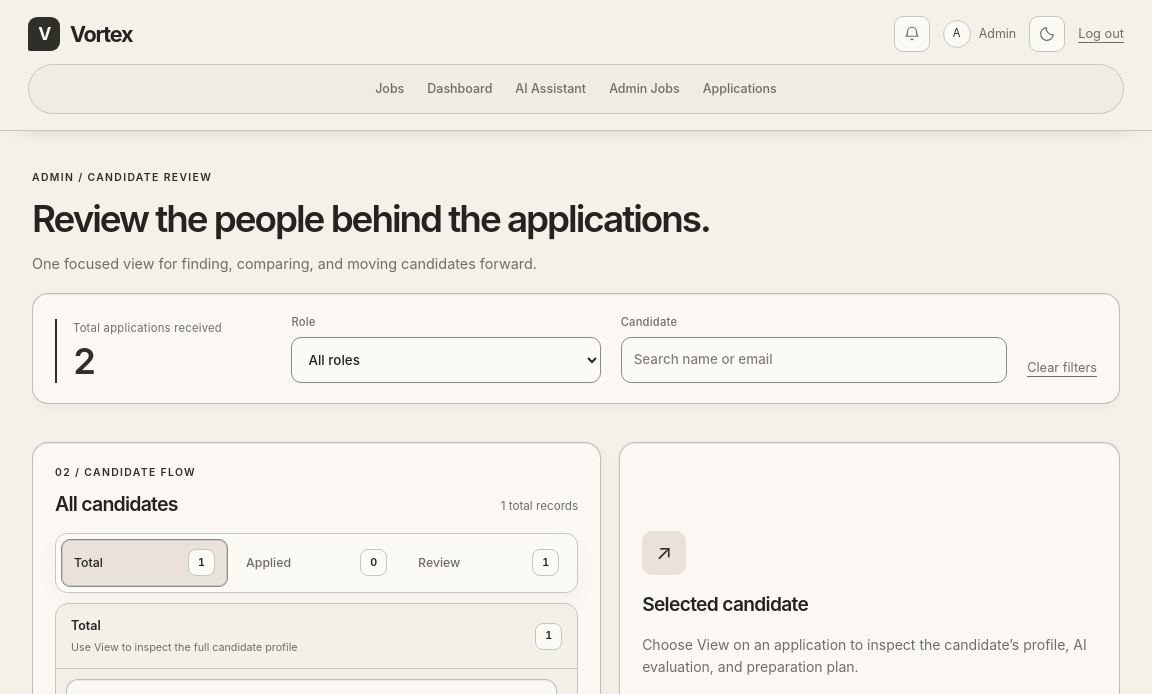
Test: Dashboard layout › renders the candidate review dashboard with a LinkedIn-only profile
Expected: the heading "Review the people behind the applications." is shown, [32,198,710,240]
Expected: the text "2" is shown, [73,339,94,383]
Click the tab "Applied 0": (316, 563) [233,539,400,587]
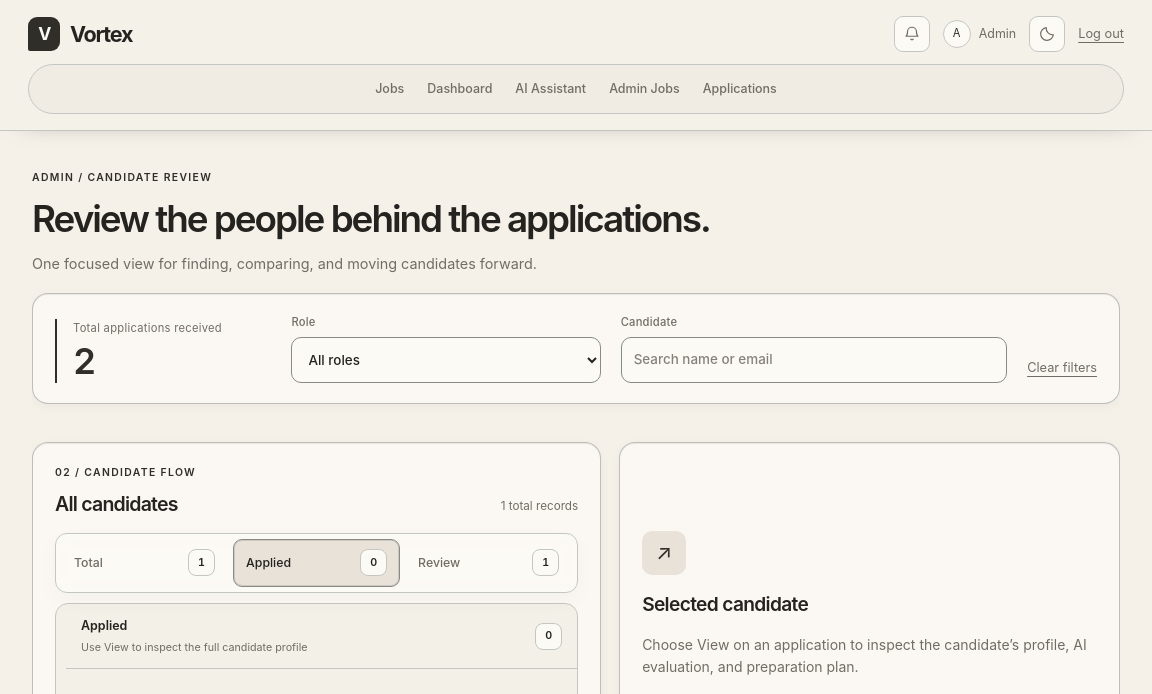
Click the tab "Review 1": (489, 563) [405,539,572,587]
(page scrolled)
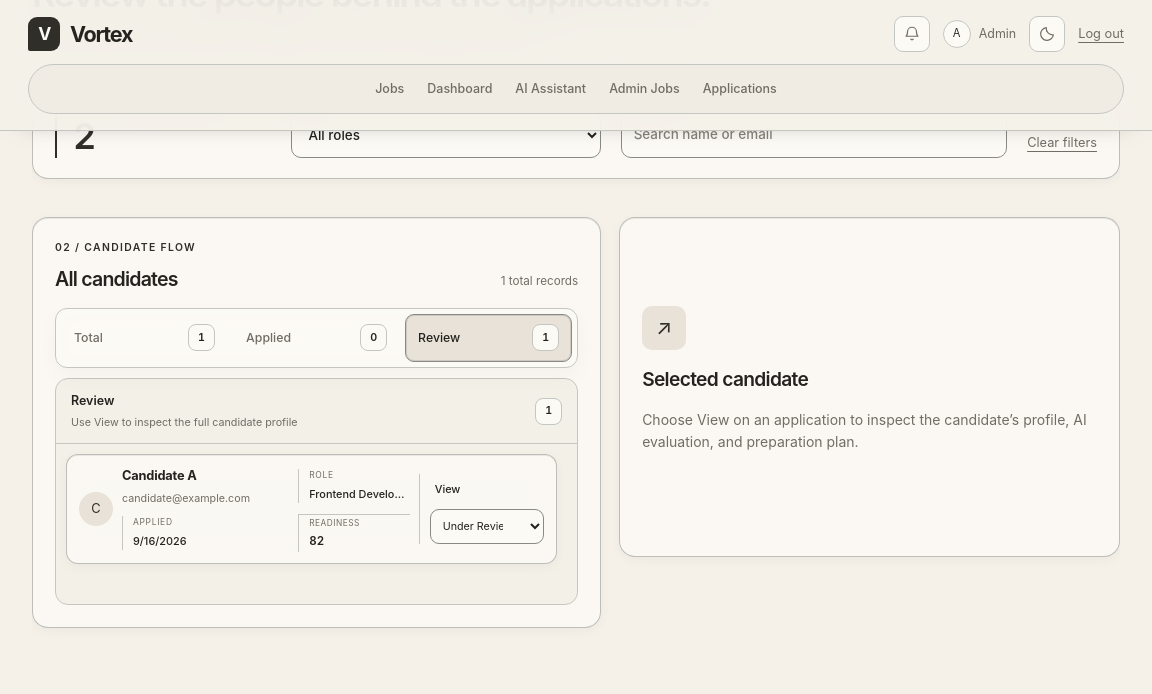
Click the button "View": (448, 489) [430,474,465,504]
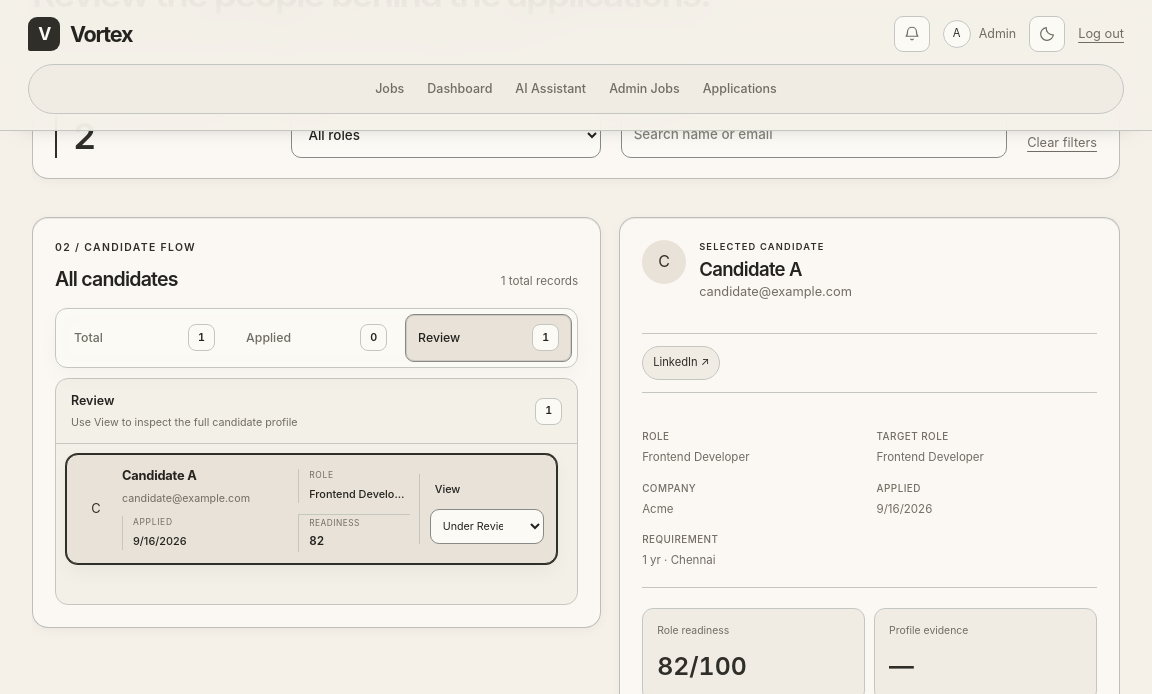
Expected: the heading "Candidate A" is shown, [699,258,802,280]
Expected: the text "Profile evidence" is shown, [889,624,968,637]
